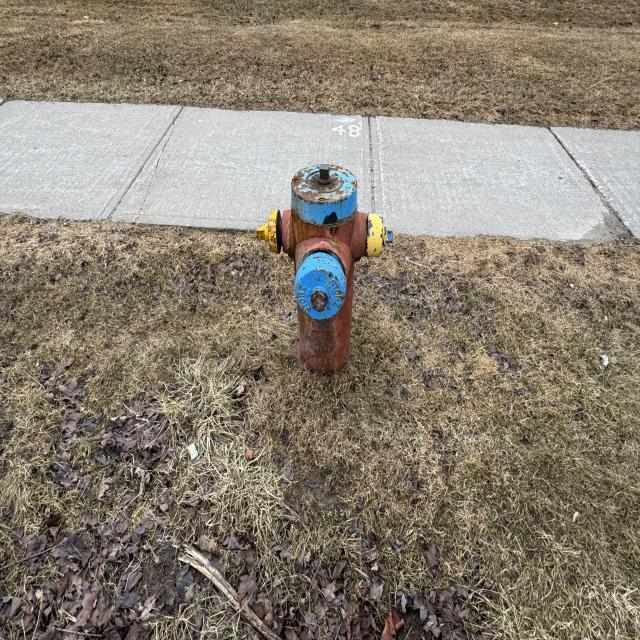Fire hydrant: (256, 163, 393, 388)
